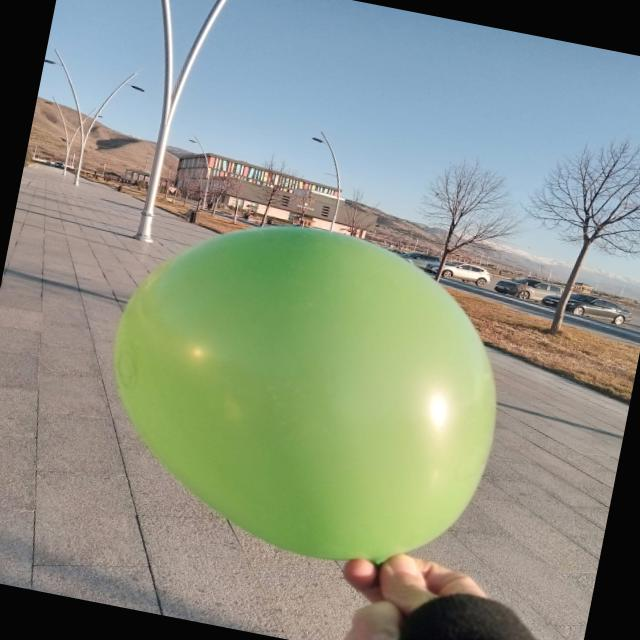balloon: (114, 227, 496, 562)
